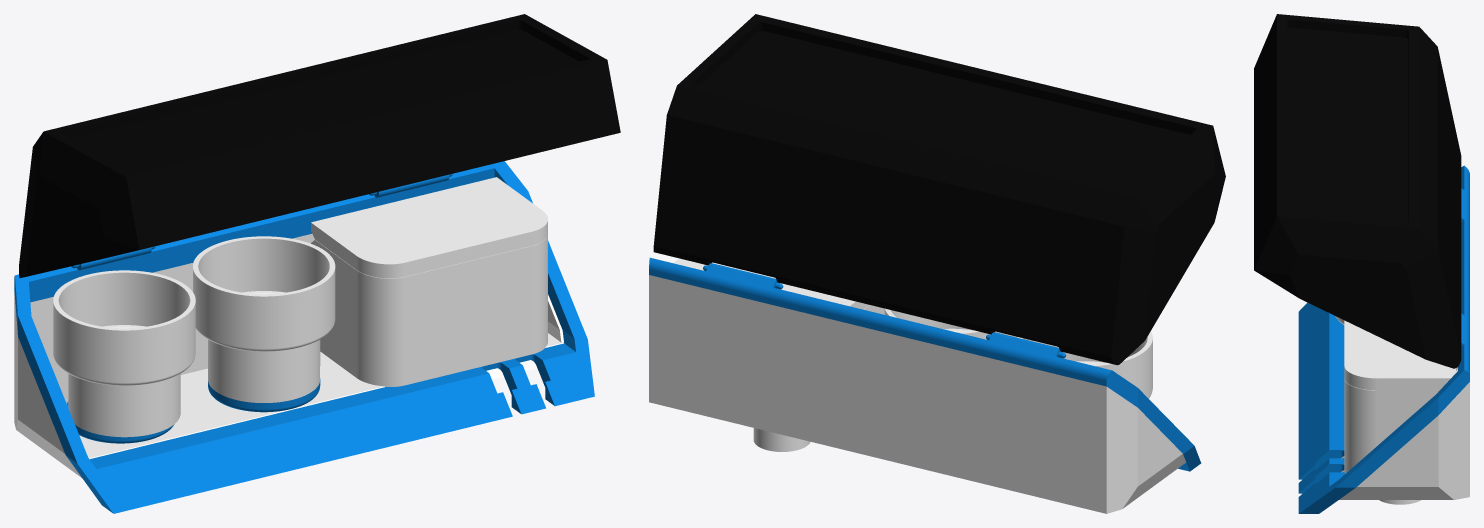
File: sp2 dve animation oop.glb
3 views of the same model, side by side, from view 1: azimuth 30°, elevation 25°; view 2: azimuth 150°, elevation 25°; view 3: azimuth 270°, elevation 25° (orthographic). The views are drawn at different scales.
Parts seen in each view (by area): view 1: Default_F242FD89_F563_4C78_B2BE_EF374EB46367_, Default_3A6377EA_8928_4010_825E_F35E6D3ECE56_, Default_0F05A3C0_C240_449B_8DEF_38D4D7C79C96_, Default_70B36A46_8C05_4CD2_8E0B_002546DF59B1_, Default_0CC06295_5172_4832_B3A9_EDF41557AFD6_, Layer_01_E31F888F_E752_4BF8_9B68_8456BB9988E8_, Default_435E7F2D_E64F_483D_B2AC_8ECBCA78B99E_, Default_80436E60_0DA0_40E1_B132_B9B8B7342DBD_; view 2: Default_F242FD89_F563_4C78_B2BE_EF374EB46367_, Default_435E7F2D_E64F_483D_B2AC_8ECBCA78B99E_, Default_3A6377EA_8928_4010_825E_F35E6D3ECE56_, Default_70B36A46_8C05_4CD2_8E0B_002546DF59B1_, Default_0F05A3C0_C240_449B_8DEF_38D4D7C79C96_, Layer_01_E31F888F_E752_4BF8_9B68_8456BB9988E8_, Default_0CC06295_5172_4832_B3A9_EDF41557AFD6_; view 3: Default_F242FD89_F563_4C78_B2BE_EF374EB46367_, Default_3A6377EA_8928_4010_825E_F35E6D3ECE56_, Default_435E7F2D_E64F_483D_B2AC_8ECBCA78B99E_, Layer_01_E31F888F_E752_4BF8_9B68_8456BB9988E8_, Default_0F05A3C0_C240_449B_8DEF_38D4D7C79C96_.
Part boxes in pixels (<box>): Default_F242FD89_F563_4C78_B2BE_EF374EB46367_: <box>19,14,620,277</box>; Default_3A6377EA_8928_4010_825E_F35E6D3ECE56_: <box>14,161,594,513</box>; Default_0F05A3C0_C240_449B_8DEF_38D4D7C79C96_: <box>311,235,547,386</box>; Default_70B36A46_8C05_4CD2_8E0B_002546DF59B1_: <box>53,270,195,437</box>; Default_0CC06295_5172_4832_B3A9_EDF41557AFD6_: <box>193,236,335,402</box>; Layer_01_E31F888F_E752_4BF8_9B68_8456BB9988E8_: <box>311,177,547,278</box>; Default_435E7F2D_E64F_483D_B2AC_8ECBCA78B99E_: <box>14,234,563,478</box>; Default_80436E60_0DA0_40E1_B132_B9B8B7342DBD_: <box>208,378,320,412</box>; Default_F242FD89_F563_4C78_B2BE_EF374EB46367_: <box>653,14,1225,365</box>; Default_435E7F2D_E64F_483D_B2AC_8ECBCA78B99E_: <box>649,275,1185,513</box>; Default_3A6377EA_8928_4010_825E_F35E6D3ECE56_: <box>649,257,1201,471</box>; Default_70B36A46_8C05_4CD2_8E0B_002546DF59B1_: <box>1017,331,1152,398</box>; Default_0F05A3C0_C240_449B_8DEF_38D4D7C79C96_: <box>753,305,884,451</box>; Layer_01_E31F888F_E752_4BF8_9B68_8456BB9988E8_: <box>673,258,869,309</box>; Default_0CC06295_5172_4832_B3A9_EDF41557AFD6_: <box>884,308,1017,339</box>; Default_F242FD89_F563_4C78_B2BE_EF374EB46367_: <box>1254,14,1461,368</box>; Default_3A6377EA_8928_4010_825E_F35E6D3ECE56_: <box>1298,165,1469,513</box>; Default_435E7F2D_E64F_483D_B2AC_8ECBCA78B99E_: <box>1339,370,1469,499</box>; Layer_01_E31F888F_E752_4BF8_9B68_8456BB9988E8_: <box>1344,320,1457,390</box>; Default_0F05A3C0_C240_449B_8DEF_38D4D7C79C96_: <box>1344,379,1438,504</box>.
Bounding box in the file's own units: 214 × 149 × 91.02.
